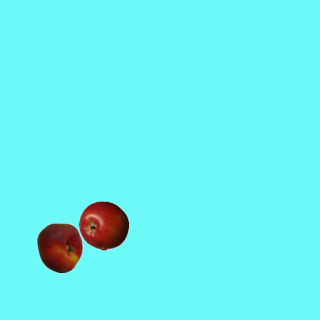Apple Braeburn: (78, 200, 128, 250)
Nectarine Flat: (34, 222, 84, 272)
